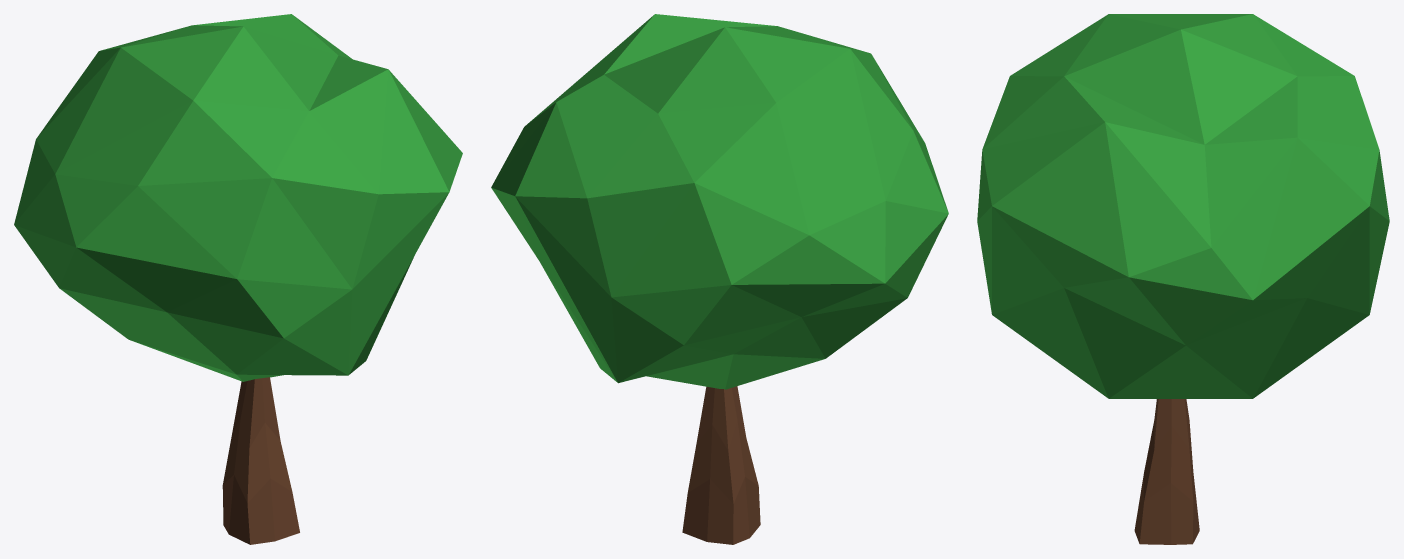
The model's file is Tree_48_Green.fbx.
3 views of the same model, side by side, from view 1: azimuth 30°, elevation 25°; view 2: azimuth 150°, elevation 25°; view 3: azimuth 270°, elevation 25° (orthographic). The views are drawn at different scales.
Parts seen in each view (by area): view 1: Tree_48_Green_Part_1, Tree_48_Green_Part_2; view 2: Tree_48_Green_Part_1, Tree_48_Green_Part_2; view 3: Tree_48_Green_Part_1, Tree_48_Green_Part_2.
Boxes of the visible parts, left/top/right/bottom form: Tree_48_Green_Part_1: left=14, top=14, right=462, bottom=381; Tree_48_Green_Part_2: left=222, top=377, right=299, bottom=544; Tree_48_Green_Part_1: left=491, top=14, right=948, bottom=389; Tree_48_Green_Part_2: left=682, top=386, right=760, bottom=544; Tree_48_Green_Part_1: left=977, top=14, right=1389, bottom=398; Tree_48_Green_Part_2: left=1134, top=399, right=1199, bottom=544.
Size of the model in its own units: 564 by 696 by 524.
